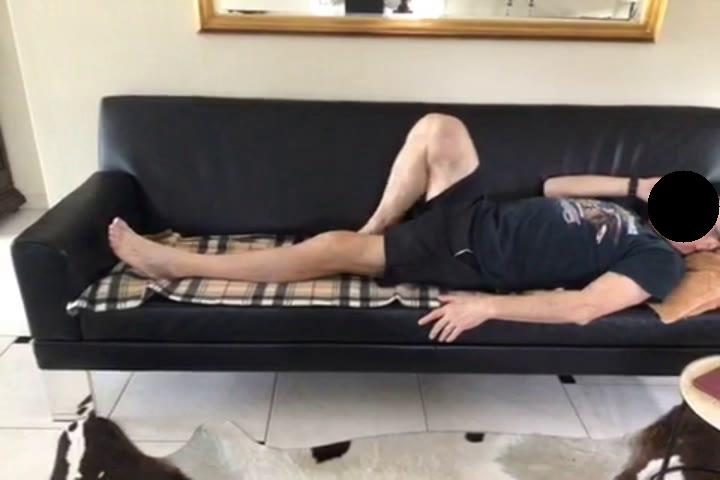lower_body: (108, 108, 491, 292)
